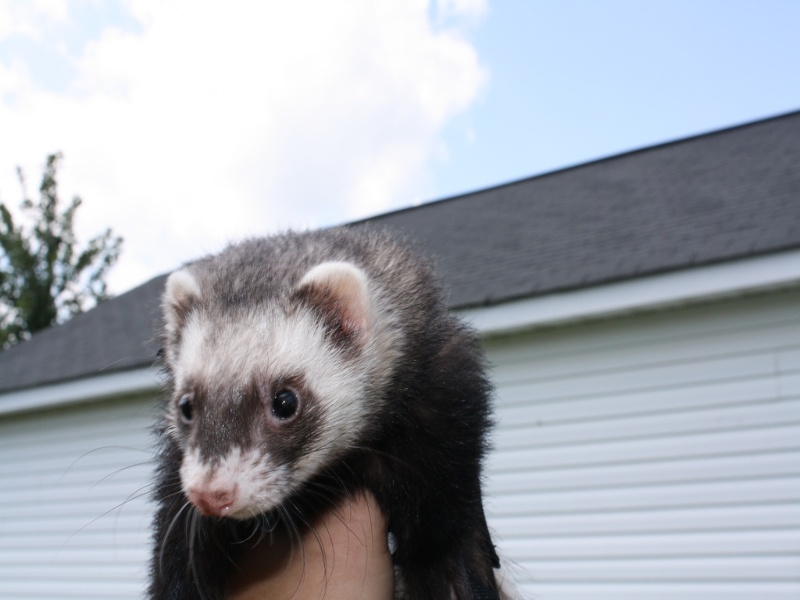minkish: (144, 222, 507, 600)
